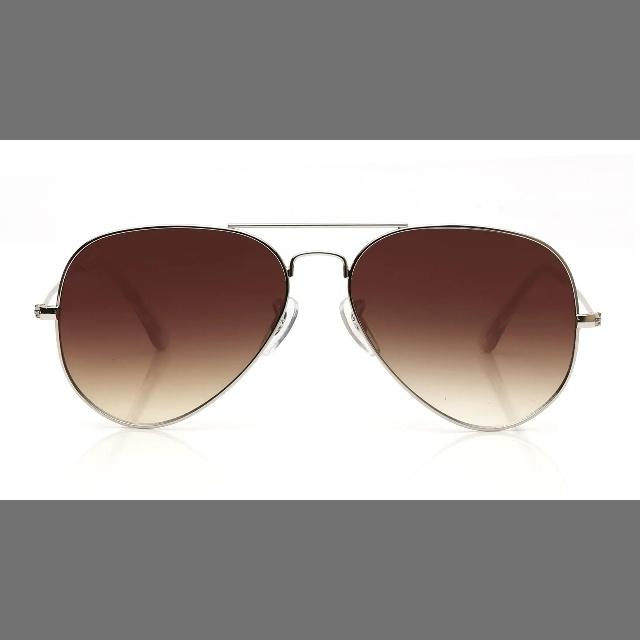Sunglasses: (51, 221, 594, 435)
